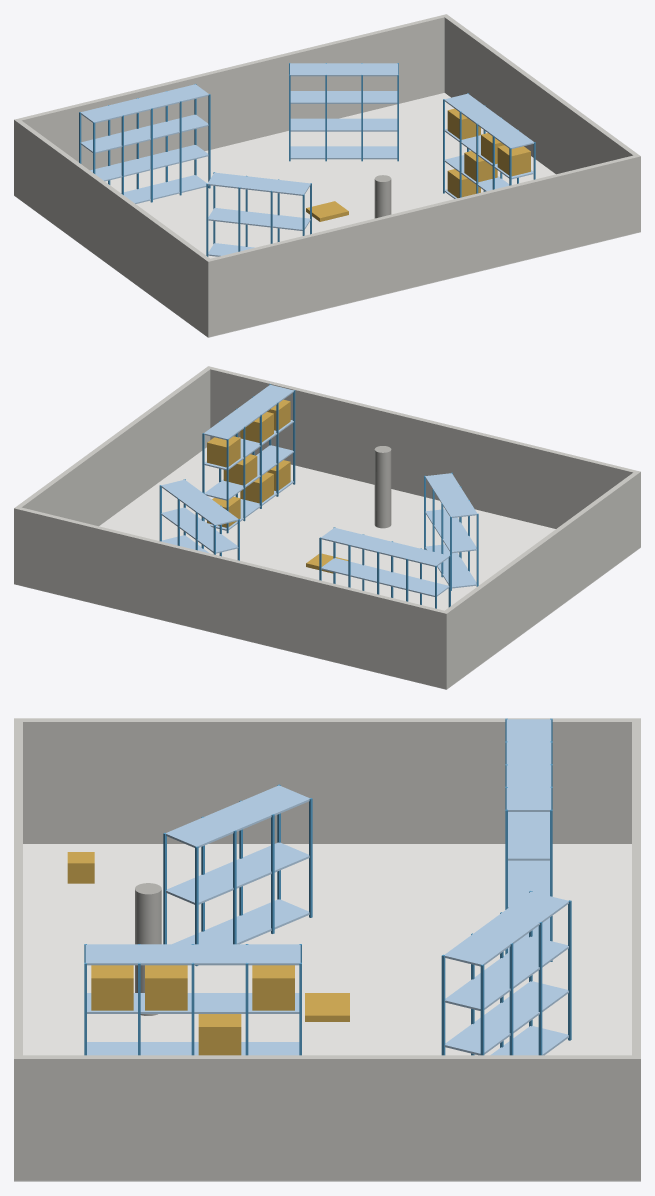
File: 04-kho-ke-cheo-va-do-vuong.glb
3 views of the same model, one above another, from view 1: azimuth 30°, elevation 25°; view 2: azimuth 150°, elevation 25°; view 3: azimuth 270°, elevation 25° (orthographic). The views are drawn at different scales.
Bounding box in the file's own units: 18 × 3.74 × 14.
